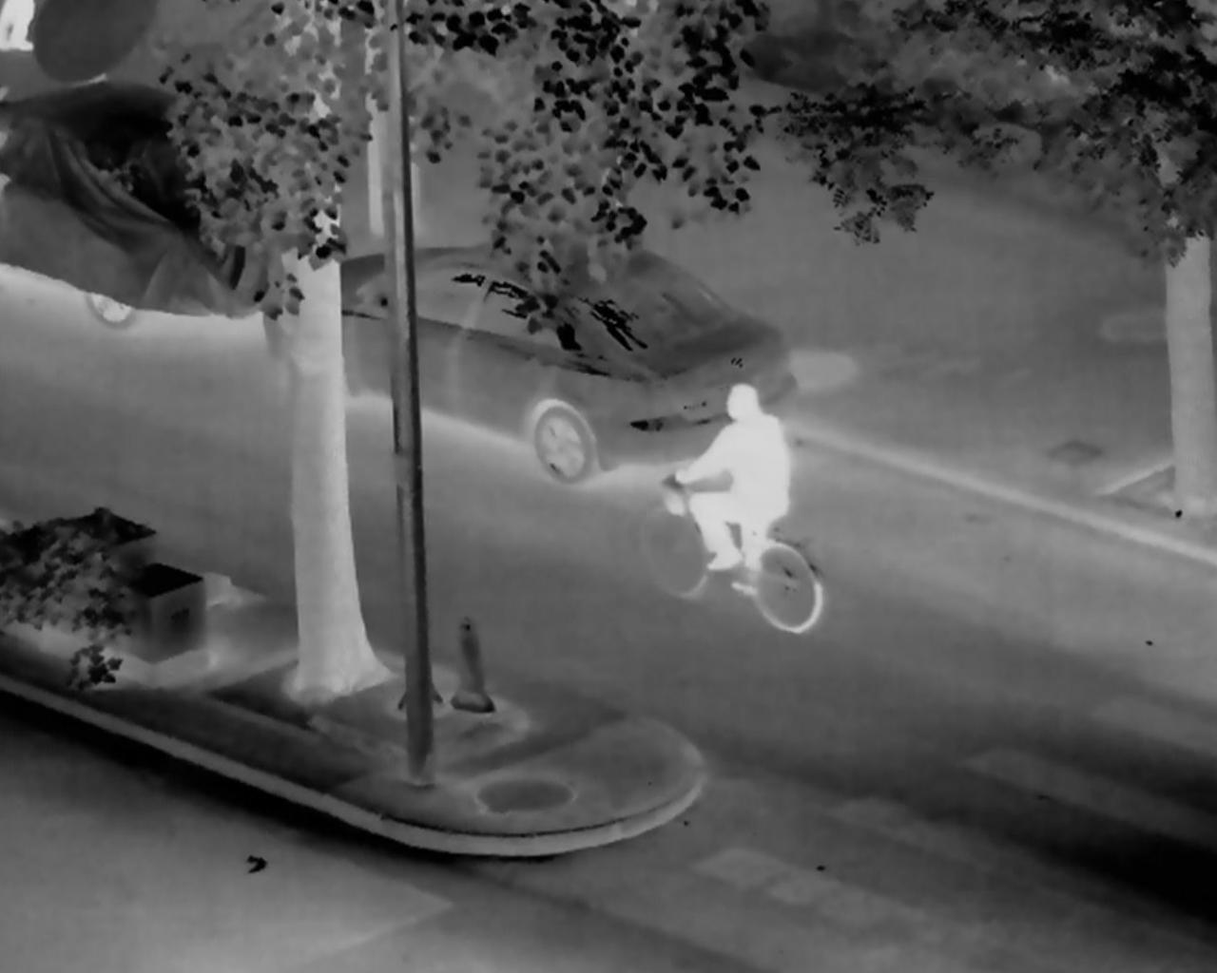person: (675, 384, 793, 597)
